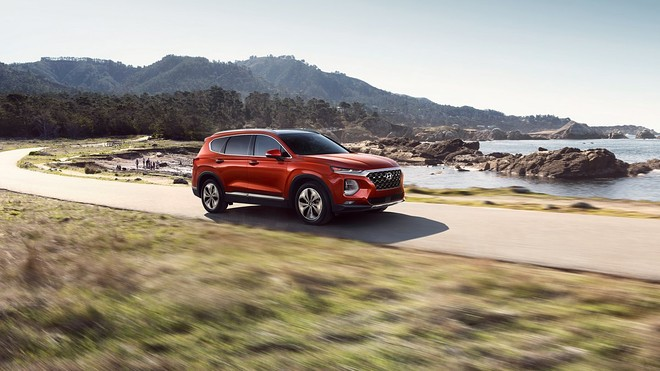car: (190, 127, 407, 227)
